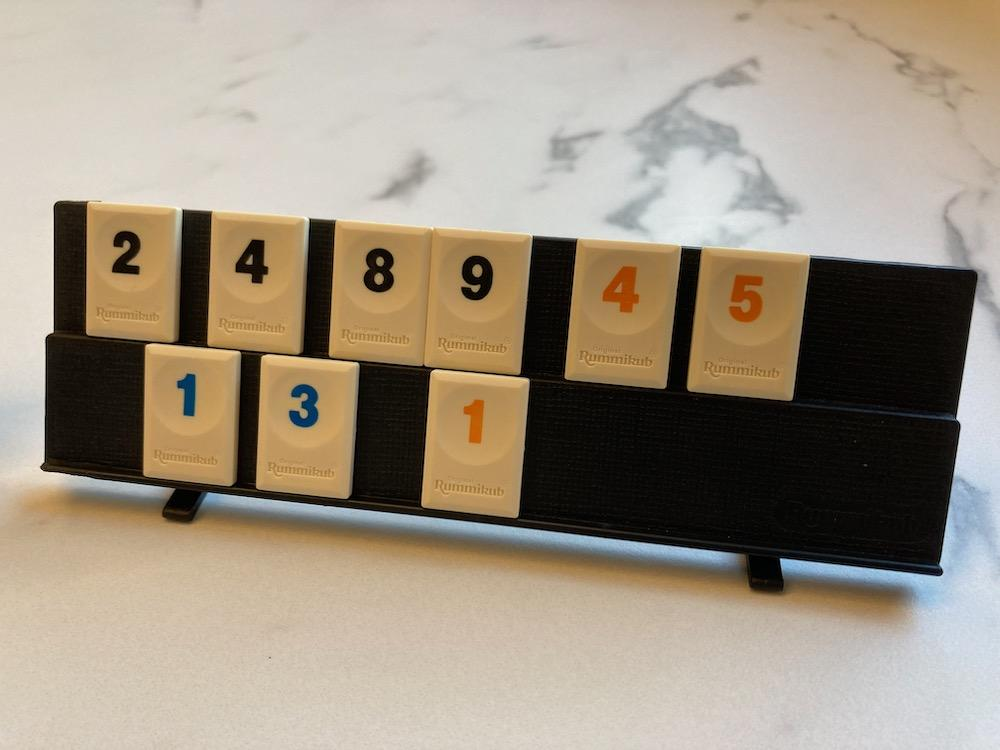black_2: (86, 201, 182, 342)
black_4: (209, 211, 308, 354)
black_8: (328, 221, 432, 365)
black_9: (424, 229, 533, 375)
blue_1: (143, 344, 240, 486)
blue_3: (258, 355, 358, 497)
orange_1: (422, 369, 529, 518)
orange_4: (564, 238, 682, 389)
orange_5: (688, 248, 809, 400)
